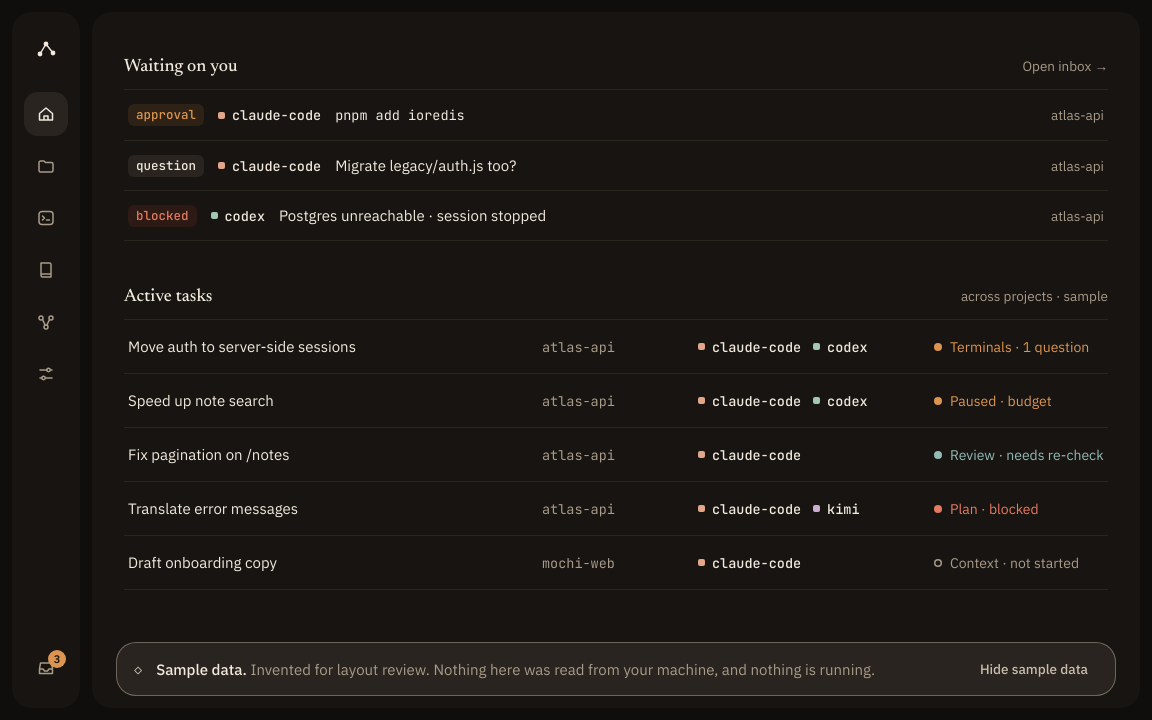
Scenario: Home composer › opens a sample task preview from an active task row
The width and height of the screenshot is (1152, 720).
(page scrolled)
Step 1. Click the link "Fix pagination on /notes" → (616, 455), box [124,428,1108,482]
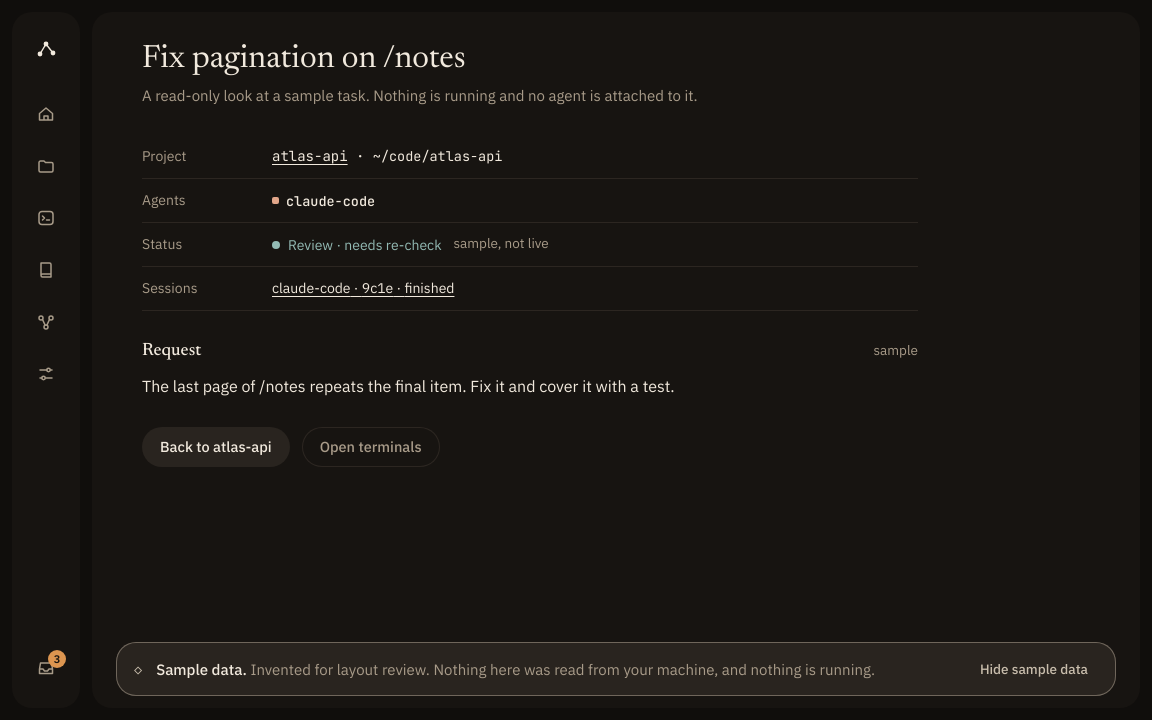
Expected: the heading "Fix pagination on /notes" is shown, [142,43,466,75]
Result: the text "sample, not live" is shown at [454,233,549,256]
Step 2. Click the button "Back to atlas-api" → (216, 447), box [142,427,290,467]
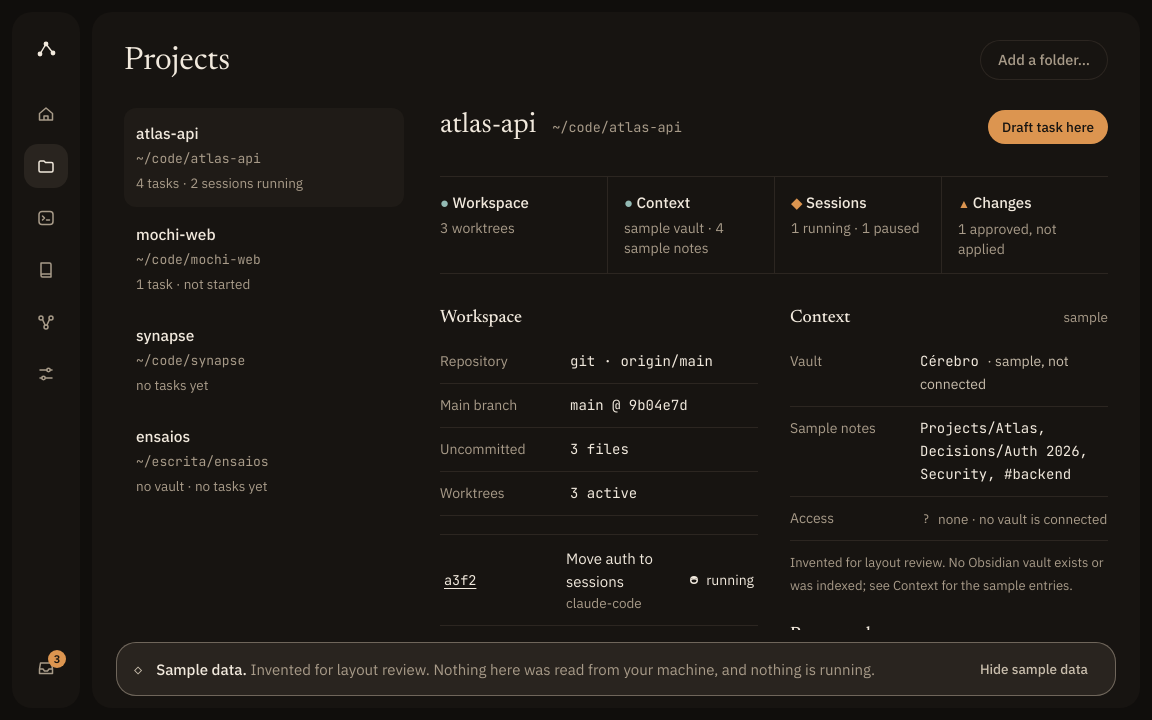
Result: the heading "atlas-api" is shown at [440,108,536,142]
